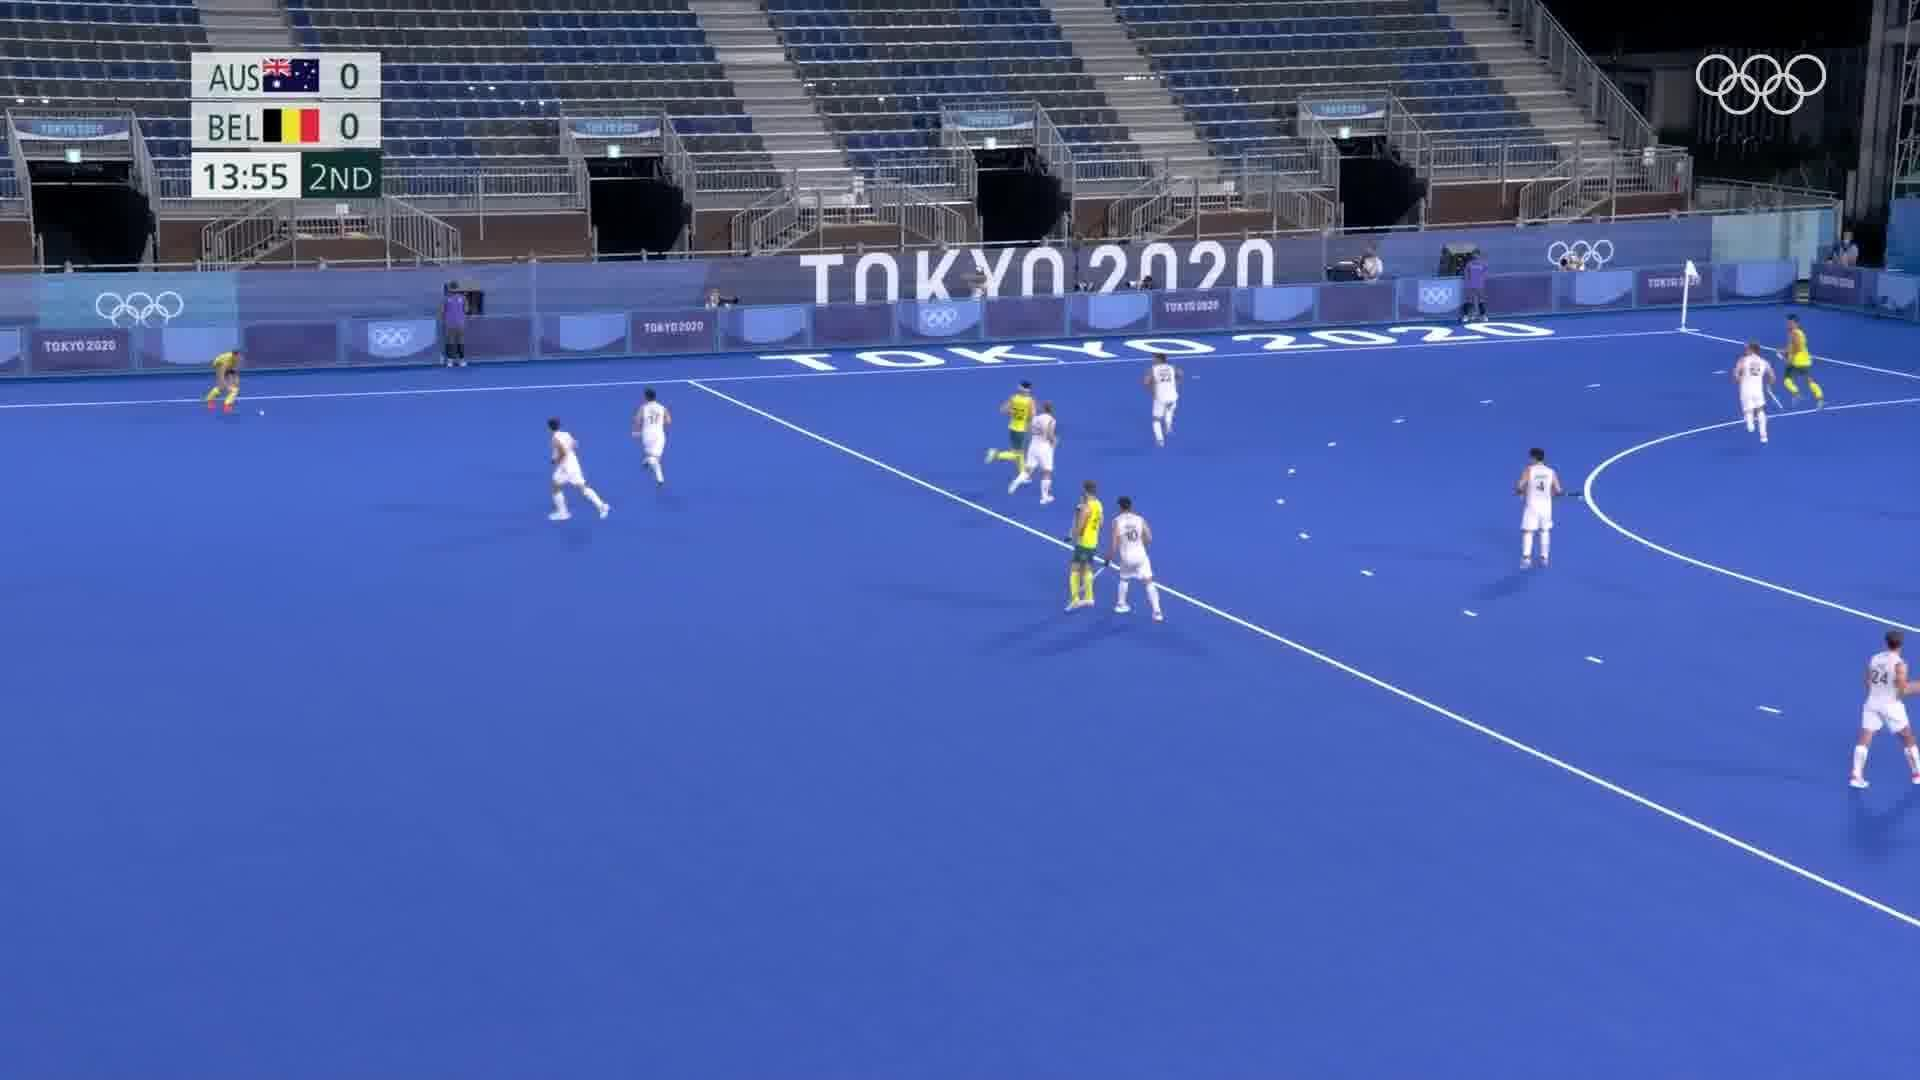ball: (251, 406, 277, 419)
